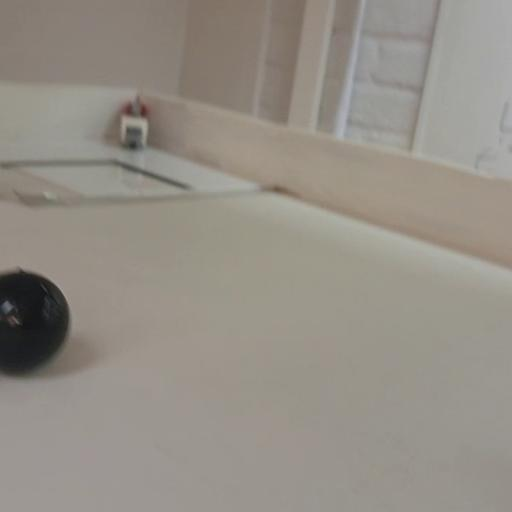dead: (0, 265, 70, 375)
